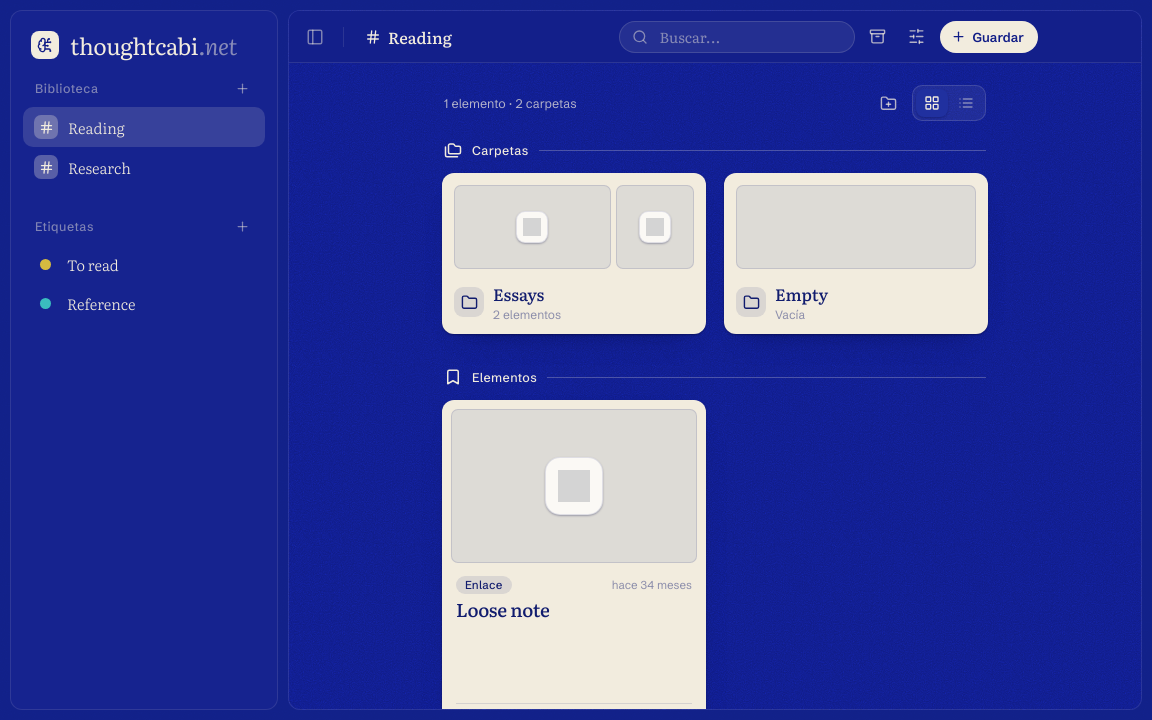
Test: the app in Spanish › writes the compose dialog in Spanish
Click the button "Guardar": click(989, 36) [940, 20, 1038, 52]
(page scrolled)
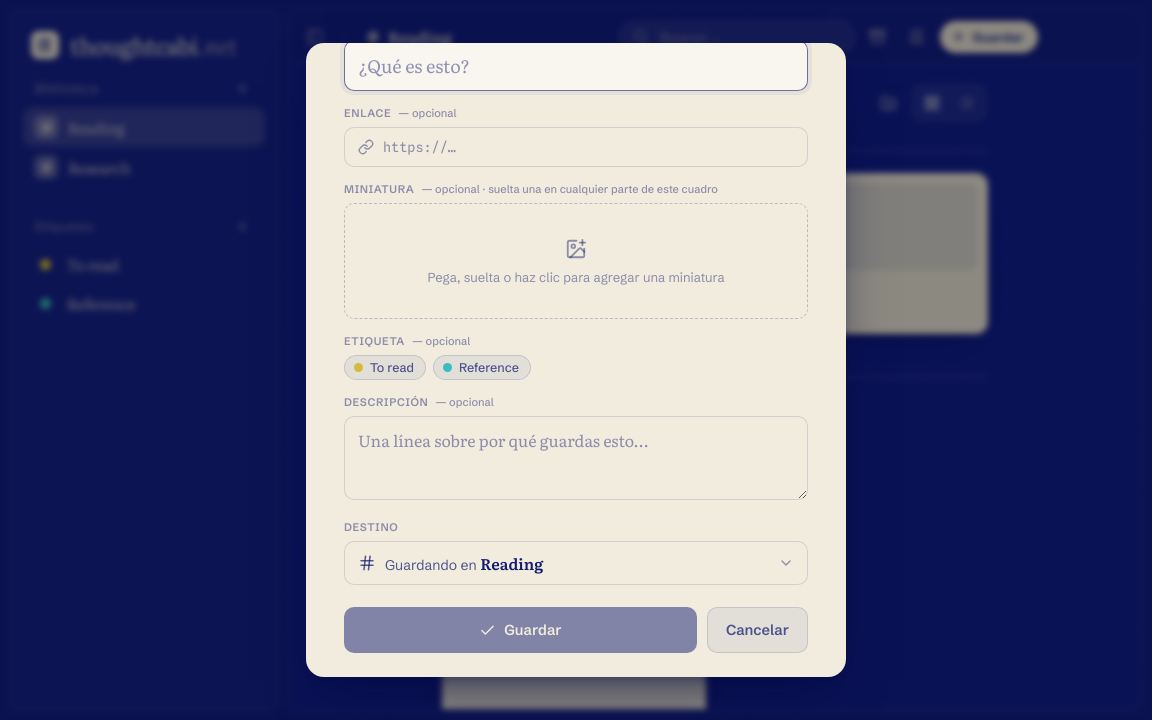
expect the field with placeholder "¿Qué es esto?" is shown: met, box [344, 43, 808, 91]
expect the text box with placeholder "Una línea sobre por qué guardas esto…" is shown: met, box [344, 416, 808, 500]
expect the text "Destino" is shown: met, box [344, 520, 398, 534]
